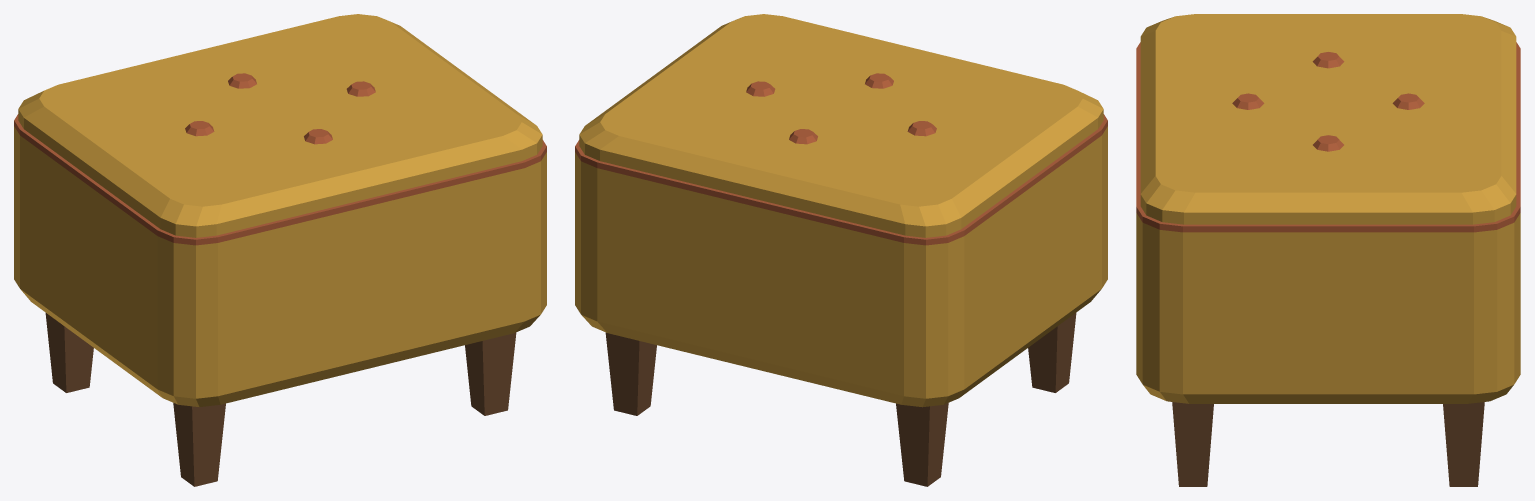
Rendered from FN_Stool_Footstool.glb.
3 renders of one model, left to right at view 1: azimuth 30°, elevation 25°; view 2: azimuth 150°, elevation 25°; view 3: azimuth 270°, elevation 25°, orthographic. The views are drawn at different scales.
Parts seen in each view (by area): view 1: FN_Stool_Footstool; view 2: FN_Stool_Footstool; view 3: FN_Stool_Footstool.
Boxes of the visible parts, x1,y1,x2,y2 form: FN_Stool_Footstool: [14, 14, 546, 486]; FN_Stool_Footstool: [575, 14, 1107, 486]; FN_Stool_Footstool: [1136, 14, 1520, 486].
Bounding box in the file's own units: 0.56 × 0.407 × 0.46.
1 material, 1 textured.
